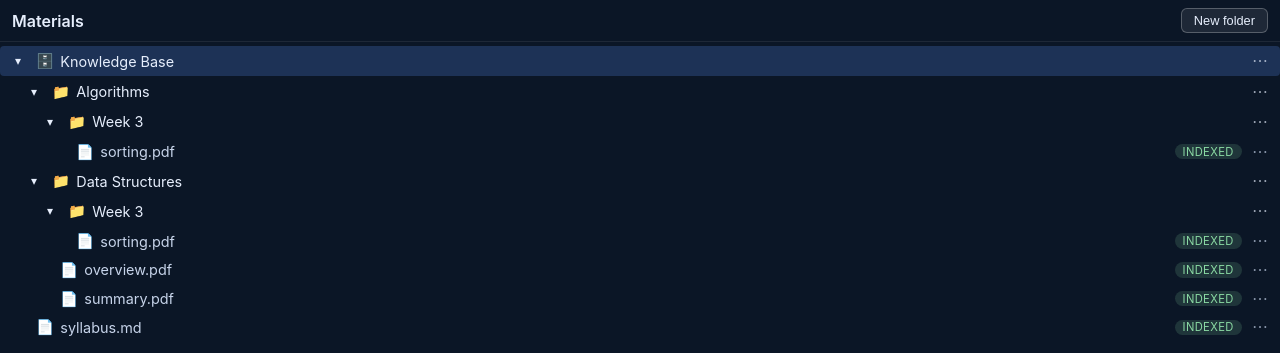
MaterialsApp context menu › toggles from the visible "More actions" button, which reflects the menu state
This screenshot has width=1280, height=353.
Click the button named "More actions for Data Structures".
click(1260, 181)  # box [1248,169,1272,193]
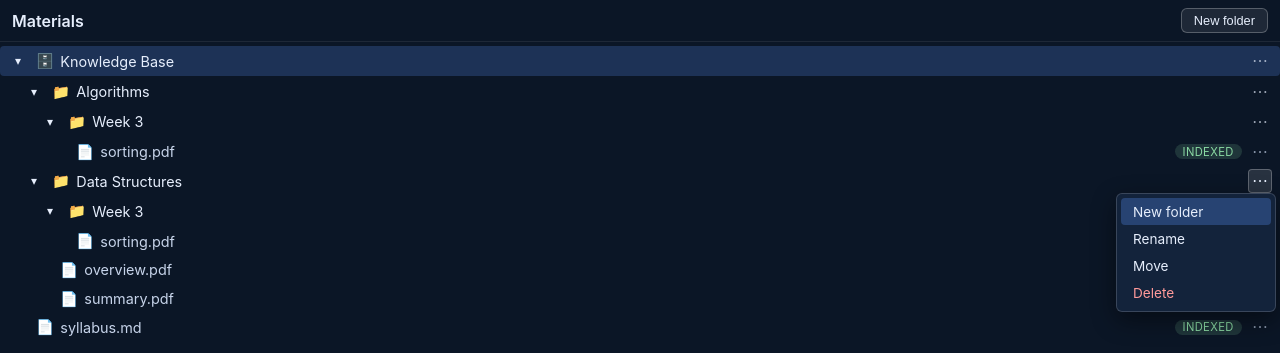
Now the button named "More actions for Data Structures" is expanded
Click the button named "More actions for Data Structures".
click(1260, 181)  # box [1248,169,1272,193]
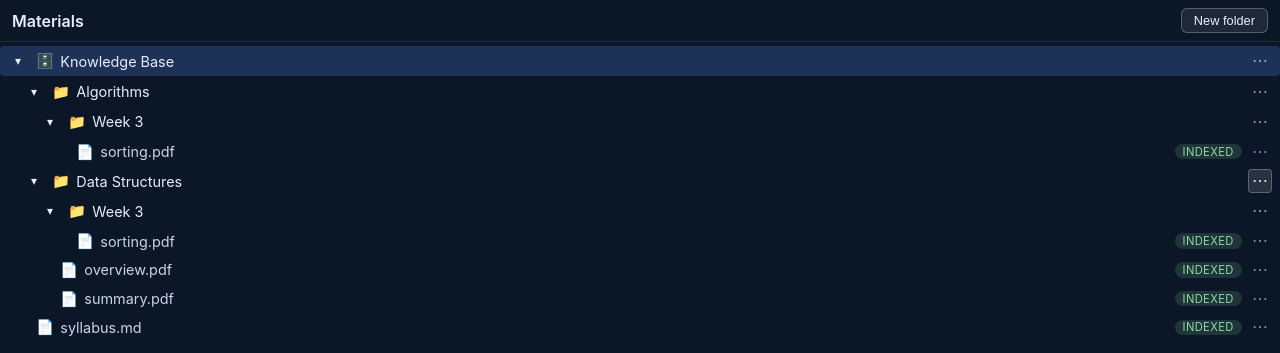
Now the menu is gone
Now the button named "More actions for Data Structures" is collapsed, box [1248,169,1272,193]
